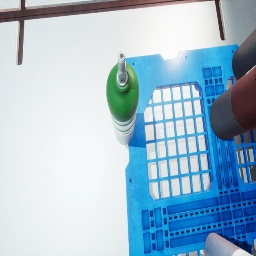0: (106, 51, 139, 145), (204, 232, 253, 256), (187, 256, 189, 256)
NitrogenTank ,: (210, 65, 256, 140), (232, 28, 256, 80)
